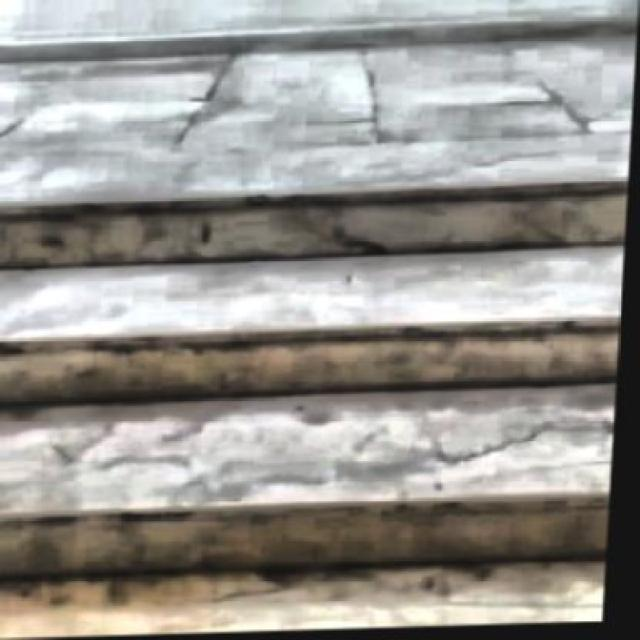stair: (0, 180, 629, 638)
